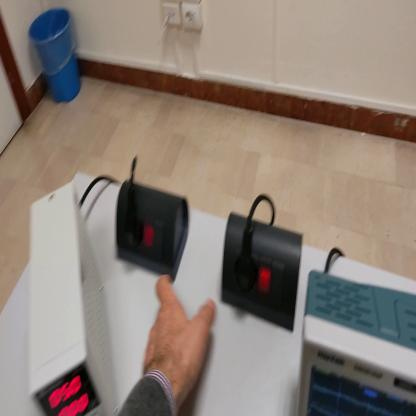hand: (144, 276, 214, 403)
oscilloscope: (296, 271, 416, 416)
power supply: (28, 185, 122, 414)
socket: (221, 210, 306, 336), (112, 185, 187, 283)
